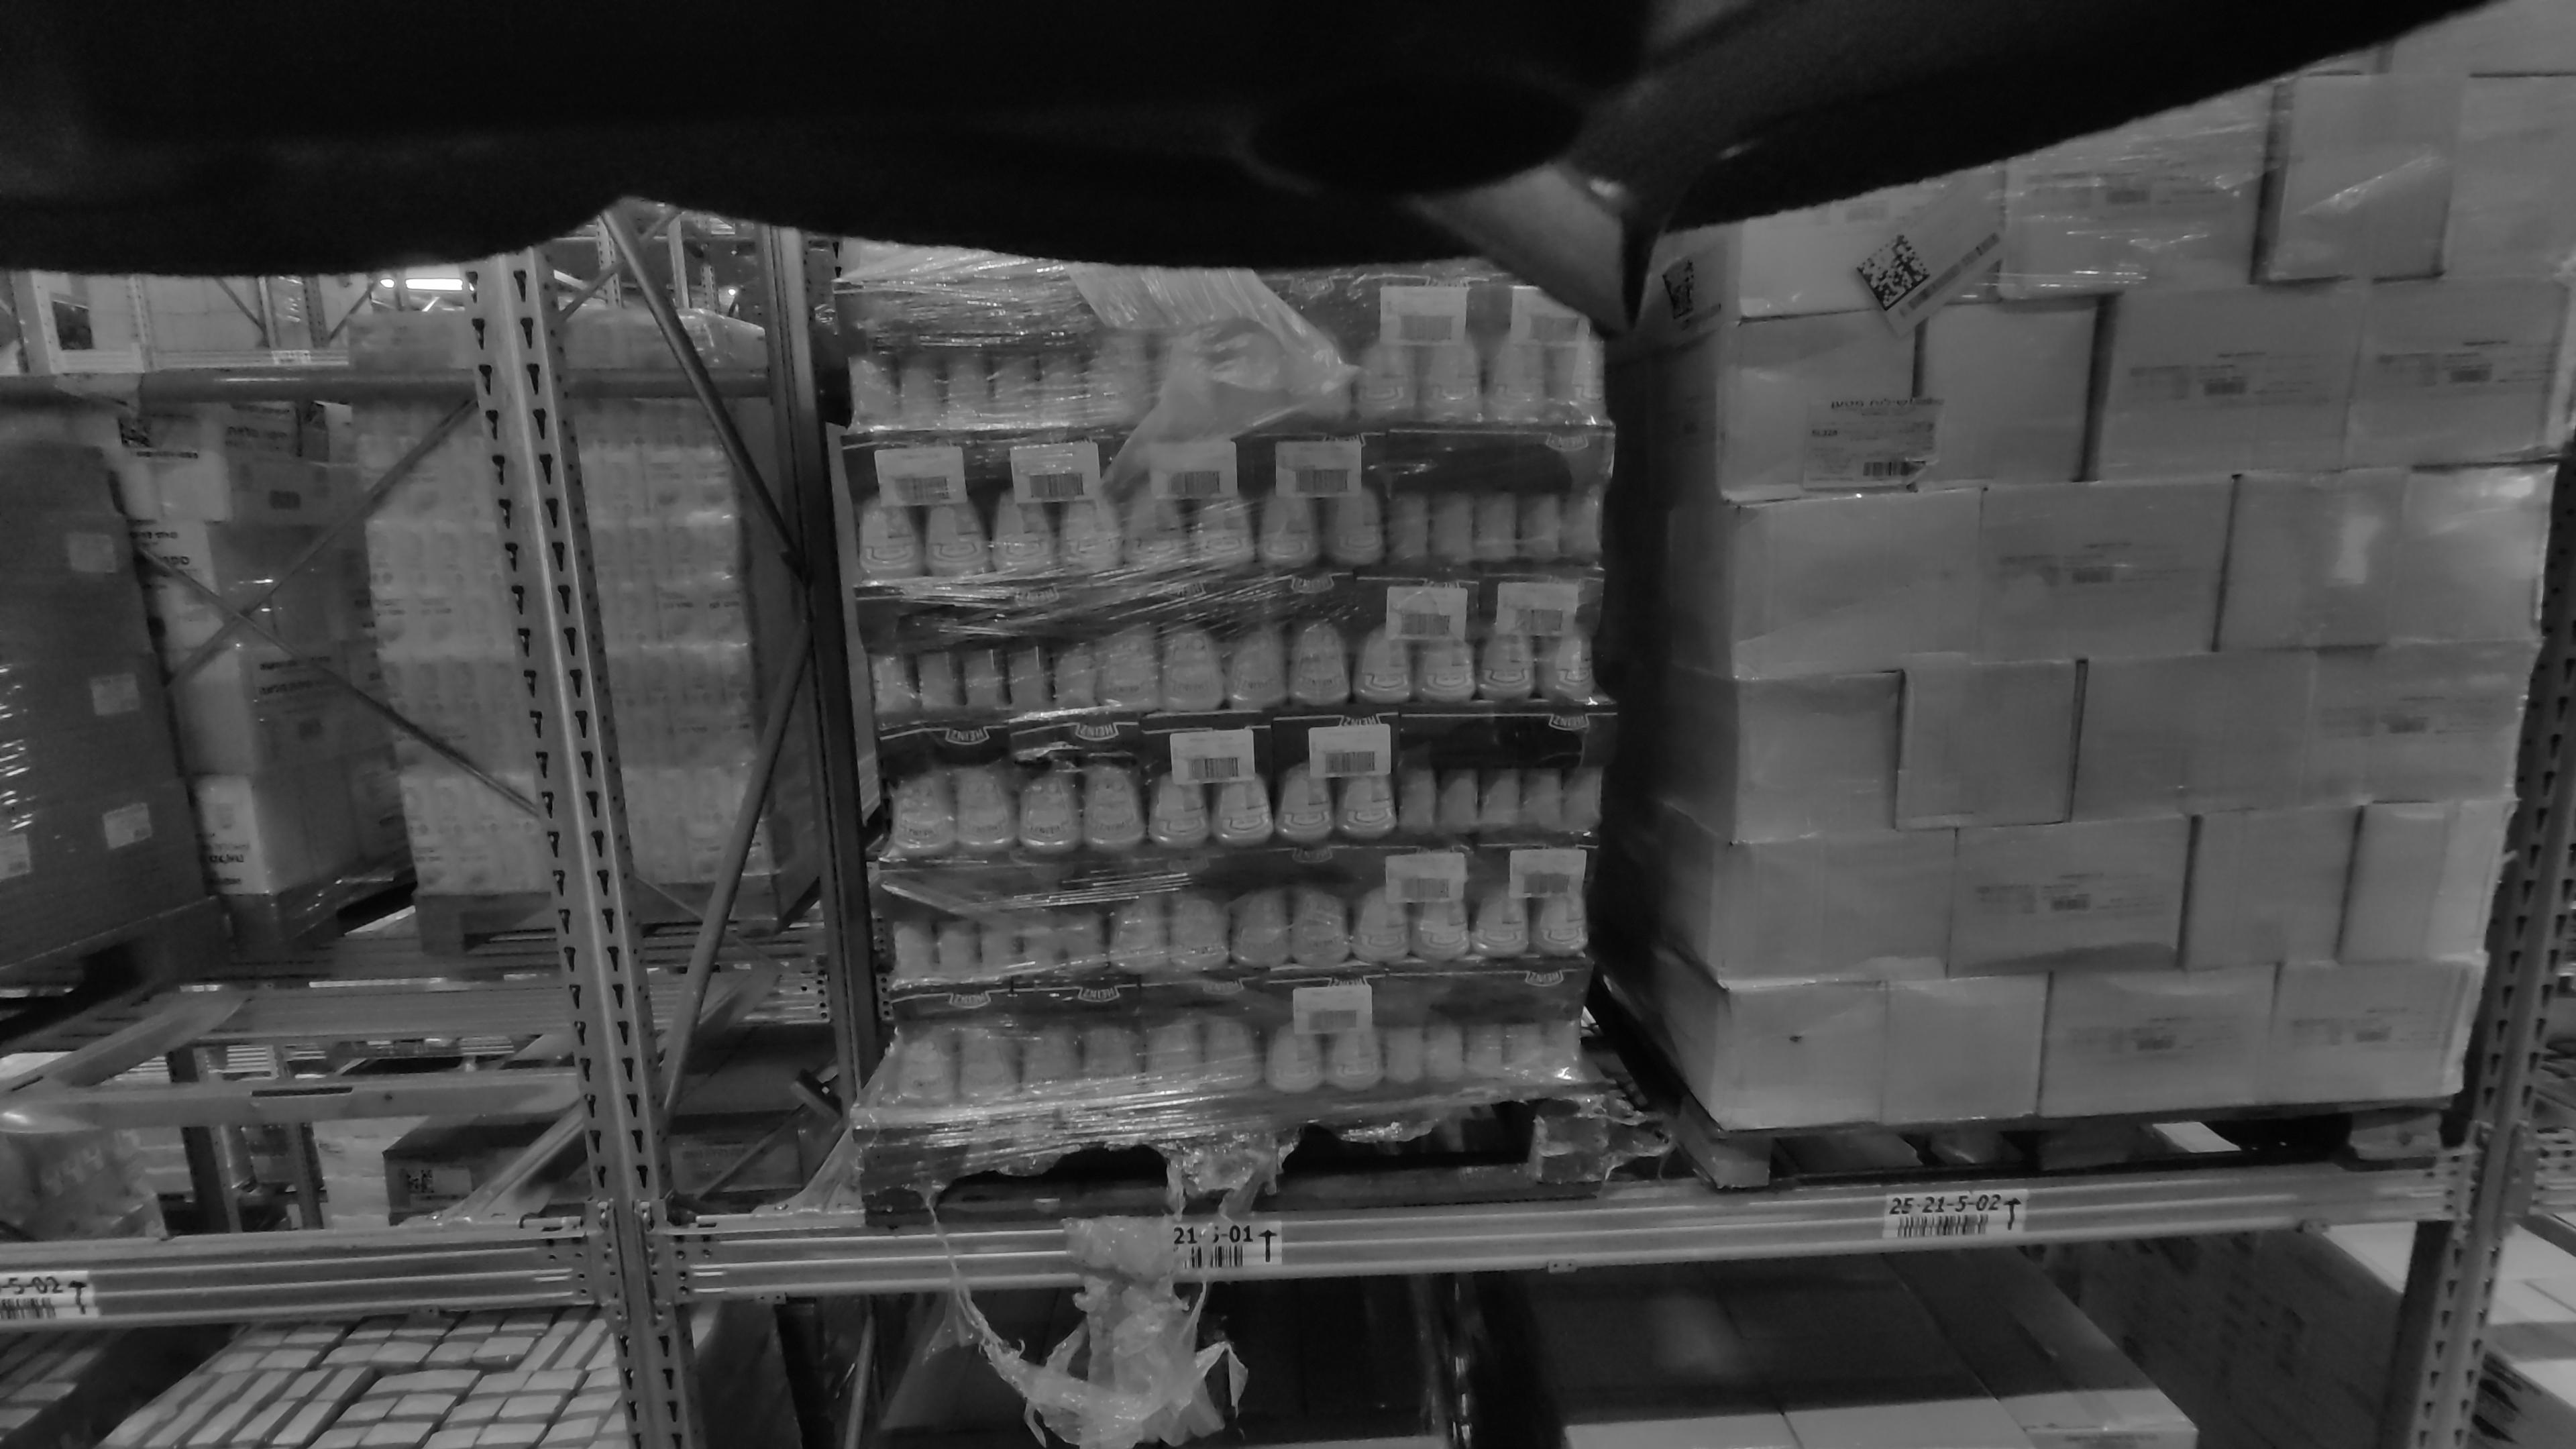empty-shelf: (5, 242, 451, 1235)
